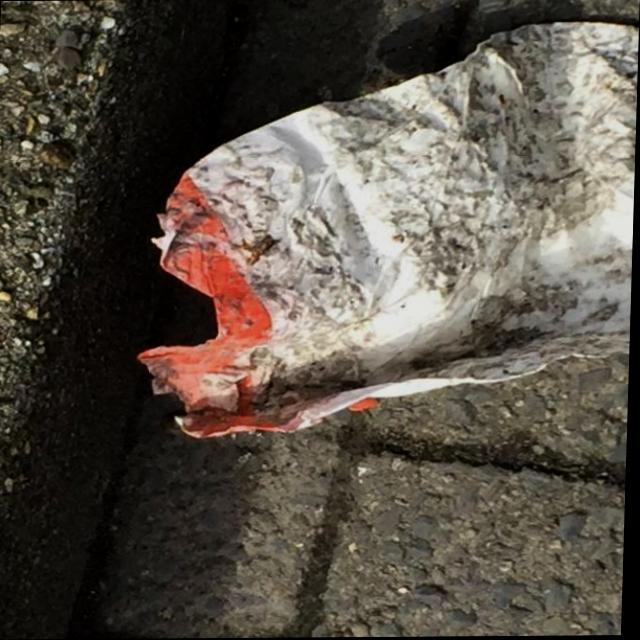Paper: (132, 15, 640, 445)
